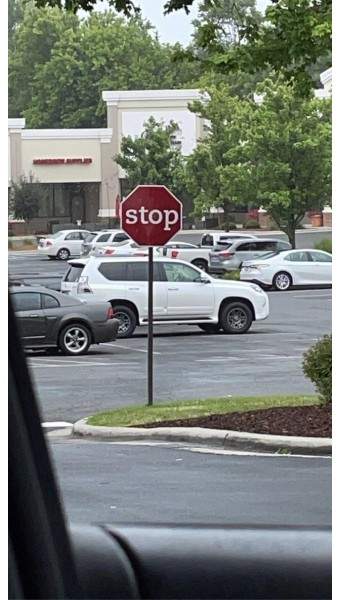SS: (118, 185, 183, 247)
